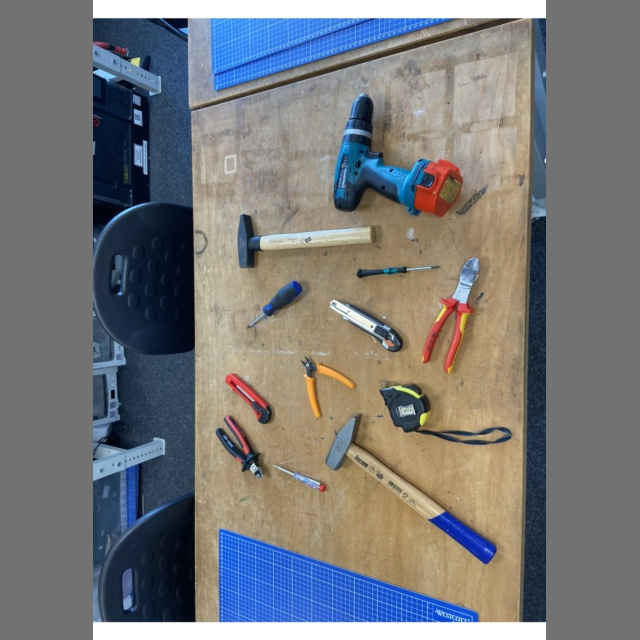drill: (331, 91, 467, 221)
screwdriver: (244, 279, 305, 330), (271, 463, 329, 494), (354, 263, 442, 281)
